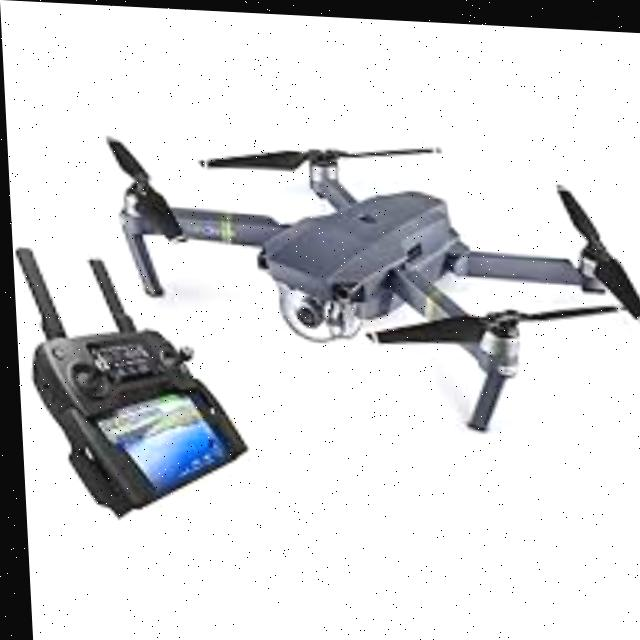drone: (93, 107, 640, 453)
